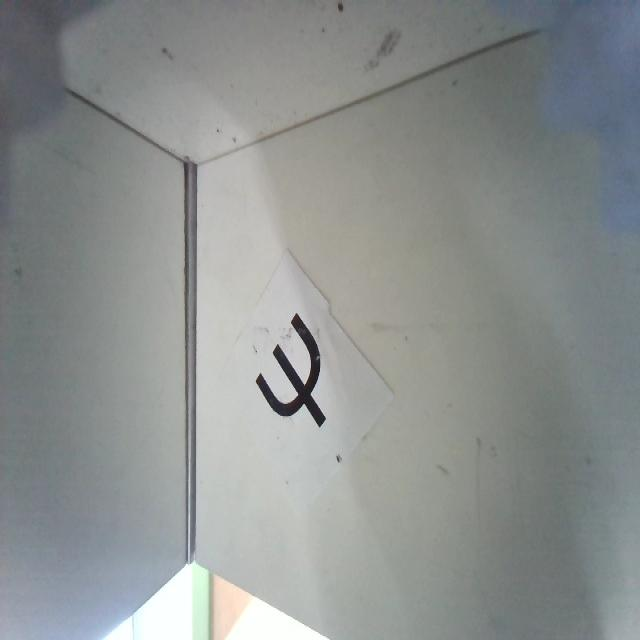nedoF: (254, 309, 326, 429)
